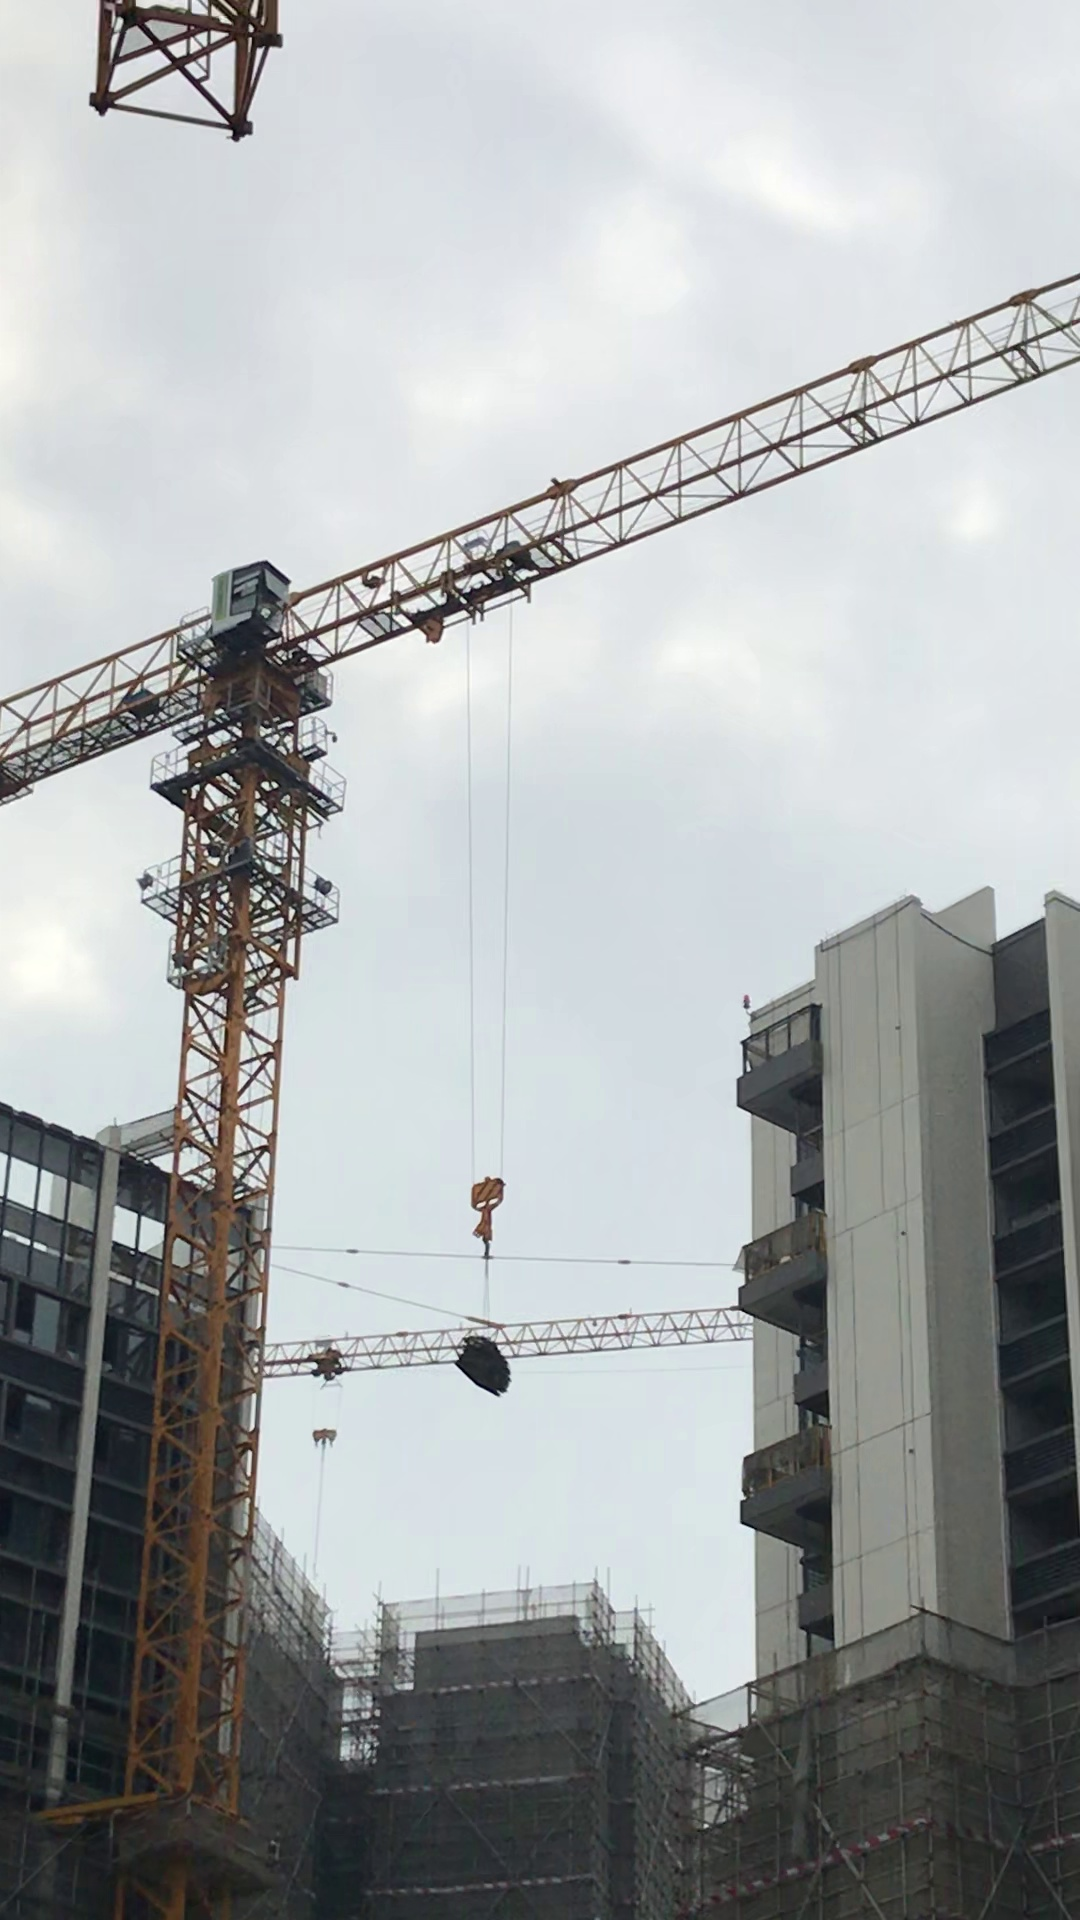hook: (462, 1174, 512, 1269), (305, 1422, 342, 1453)
